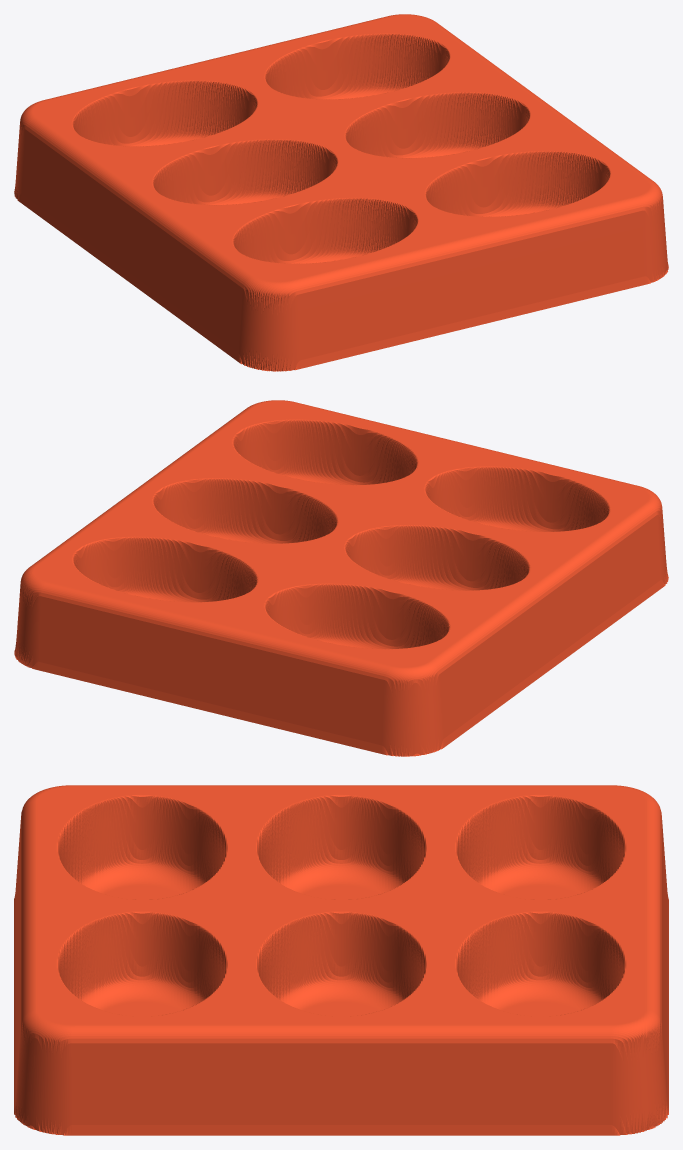
File: mold.glb
3 renders of one model, top to bottom at view 1: azimuth 30°, elevation 25°; view 2: azimuth 150°, elevation 25°; view 3: azimuth 270°, elevation 25°, orthographic. The views are drawn at different scales.
Visible parts, largest first — view 1: geometry_0; view 2: geometry_0; view 3: geometry_0.
Boxes of the visible parts, <box> form: geometry_0: <box>14,14,668,371</box>; geometry_0: <box>14,400,668,756</box>; geometry_0: <box>14,785,668,1135</box>.
Bounding box in the file's own units: 0.0955 × 0.0175 × 0.1026.
